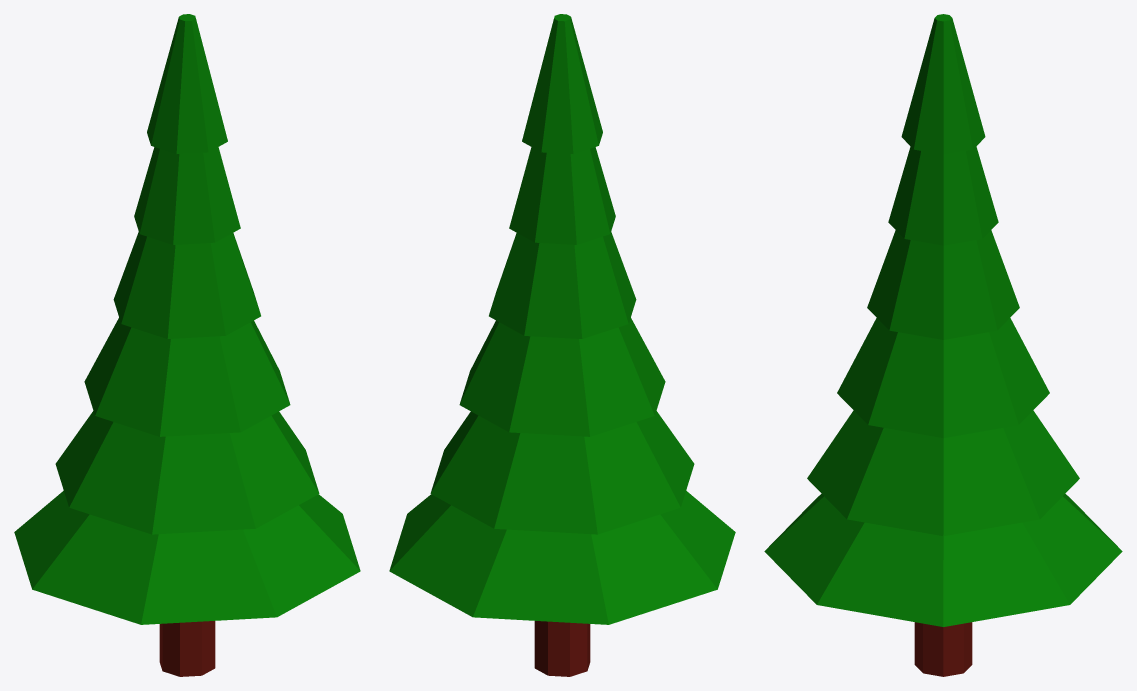
File: low_poly_tree2.fbx
3 views of the same model, side by side, from view 1: azimuth 30°, elevation 25°; view 2: azimuth 150°, elevation 25°; view 3: azimuth 270°, elevation 25° (orthographic).
Visible parts, largest first — view 1: Cylinder; view 2: Cylinder; view 3: Cylinder.
Part boxes in pixels (bbox=[...]): Cylinder: bbox=[14, 14, 360, 676]; Cylinder: bbox=[389, 14, 735, 676]; Cylinder: bbox=[764, 14, 1122, 676].
Size of the model in its own units: 407 by 811 by 407.
